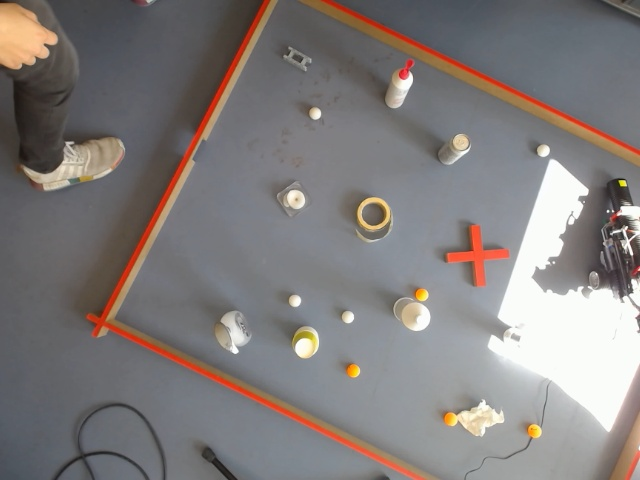orange: (0, 2, 57, 70), (215, 321, 229, 348), (414, 286, 430, 303), (527, 423, 542, 440), (346, 363, 361, 379), (443, 411, 457, 427)
robot: (599, 172, 640, 429)
white: (438, 131, 473, 166), (400, 301, 432, 333), (294, 327, 319, 359), (282, 186, 307, 216), (215, 317, 230, 349), (220, 332, 235, 353), (534, 142, 551, 159), (340, 309, 356, 325), (307, 106, 323, 122), (287, 293, 303, 309)
